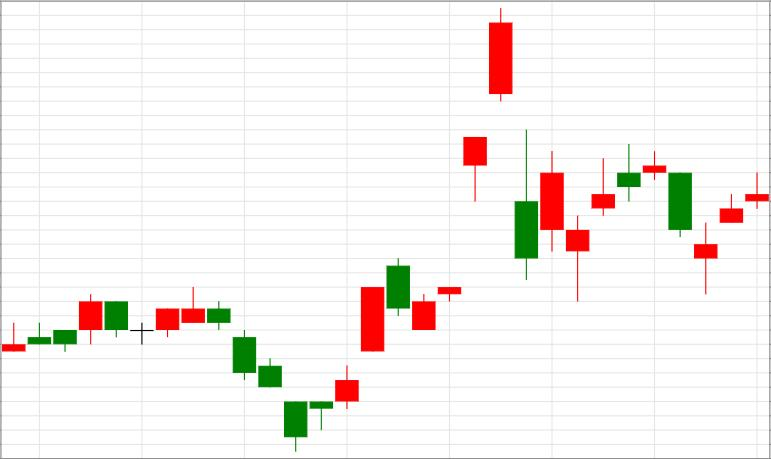hanging_man_fall: (335, 137, 487, 410)
